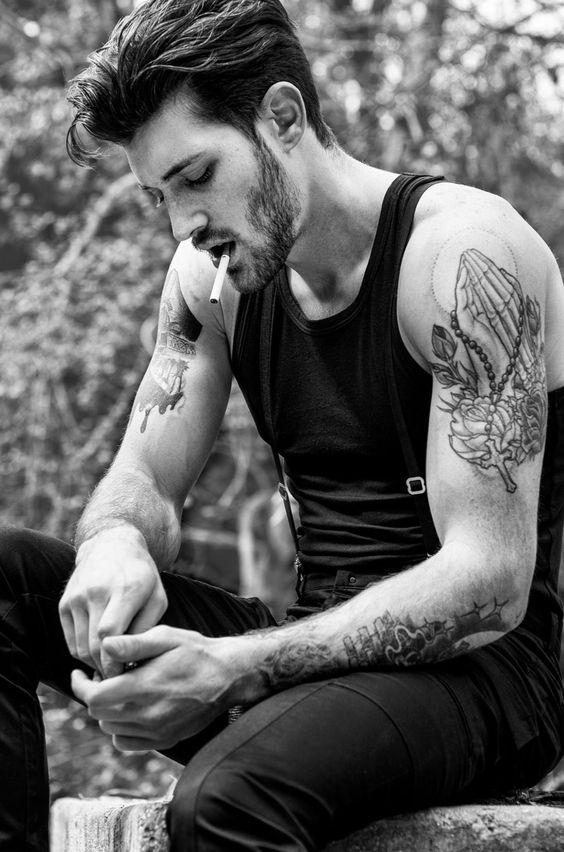cigarette: (210, 242, 234, 304)
